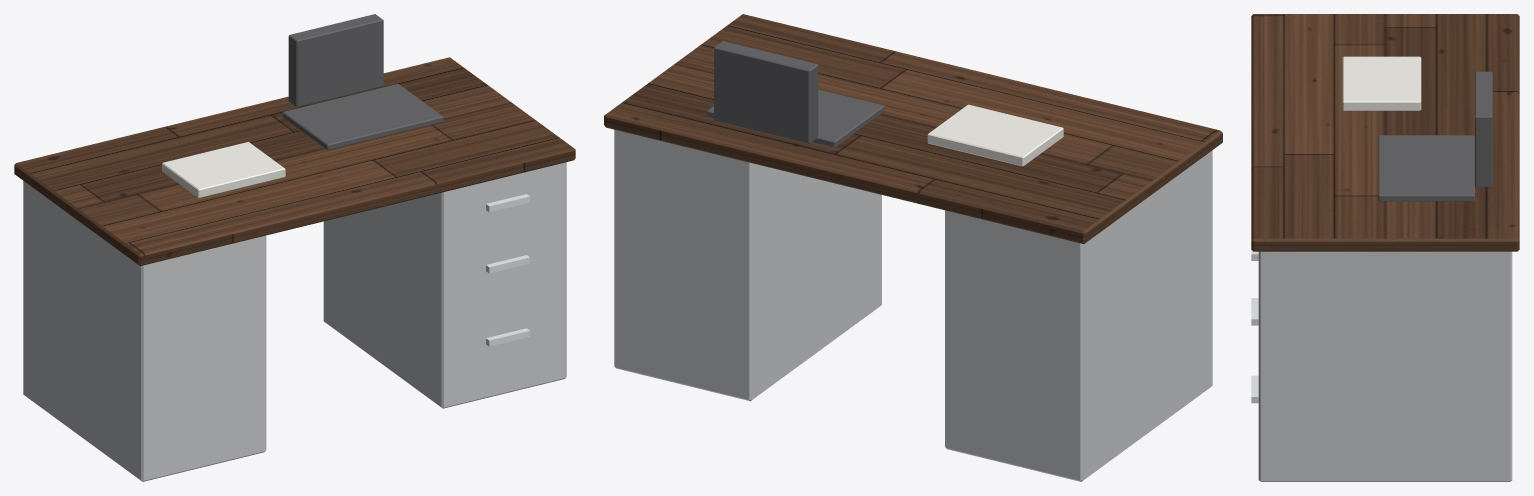
File: desk.glb
The picture shows the model from 3 angles, left to right: view 1: azimuth 30°, elevation 25°; view 2: azimuth 150°, elevation 25°; view 3: azimuth 270°, elevation 25°; orthographic projection. The views are drawn at different scales.
Visible parts, largest first — view 1: desk_metal, desk_dkwood, desk_dark, desk_paper, desk_chrome; view 2: desk_metal, desk_dkwood, desk_dark, desk_paper; view 3: desk_metal, desk_dkwood, desk_dark, desk_paper, desk_chrome.
Boxes of the visible parts, box(x1,y1,x2,y2) form: desk_metal: box(23, 162, 566, 481); desk_dkwood: box(14, 57, 575, 265); desk_dark: box(282, 14, 443, 150); desk_paper: box(162, 142, 285, 197); desk_chrome: box(486, 194, 529, 346); desk_metal: box(614, 129, 1212, 481); desk_dkwood: box(604, 14, 1222, 243); desk_dark: box(707, 41, 884, 147); desk_paper: box(927, 104, 1063, 166); desk_metal: box(1258, 251, 1512, 481); desk_dkwood: box(1251, 14, 1519, 251); desk_dark: box(1378, 71, 1492, 201); desk_paper: box(1342, 56, 1421, 110); desk_chrome: box(1251, 250, 1258, 403).
Size of the model in its own units: 1.5 by 1 by 0.75.
5 materials, 1 textured.
